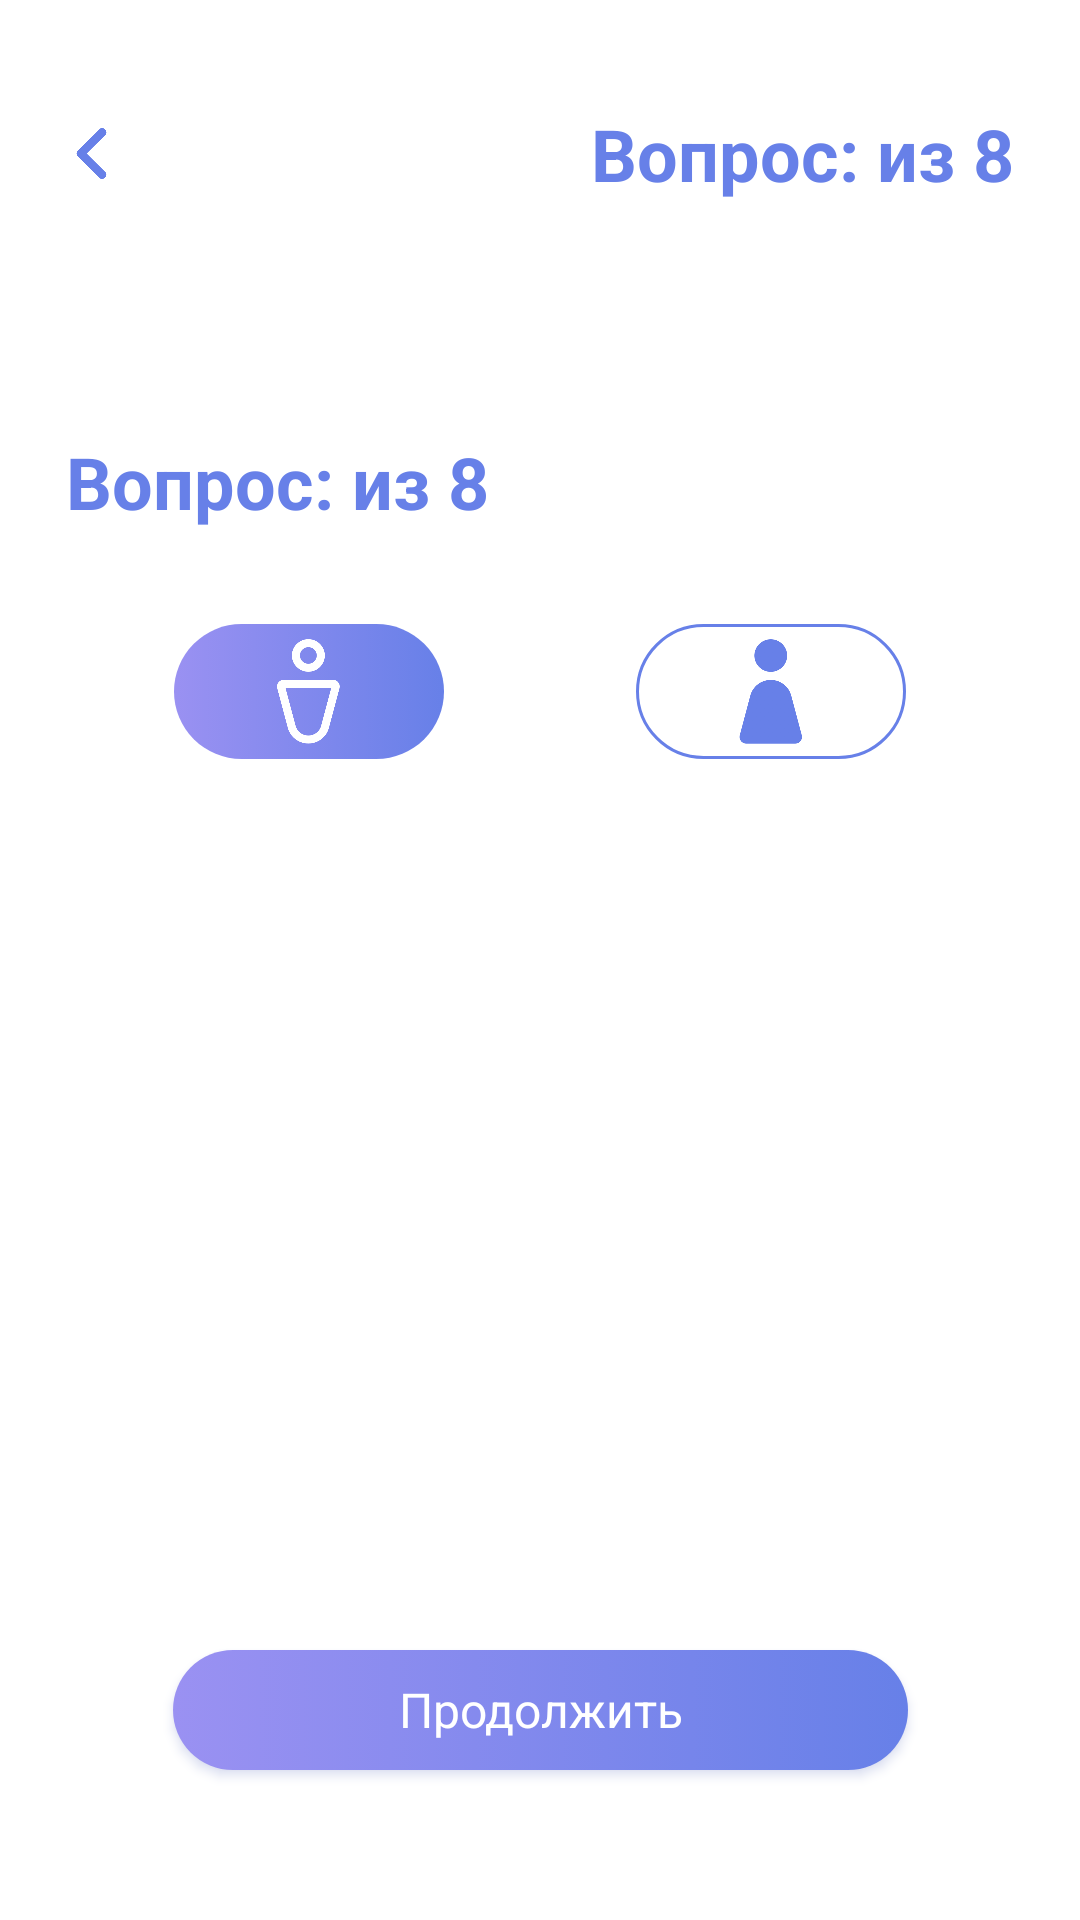

Screen size 1080×1920. Icon name, then its center in pixels as point (x, y):
back: point (91, 153)
radio sex man: point (309, 691)
radio sex woman: point (771, 691)
